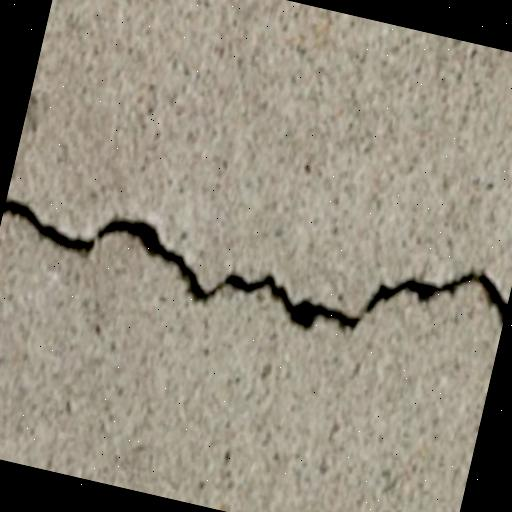spalling: (3, 186, 509, 344)
